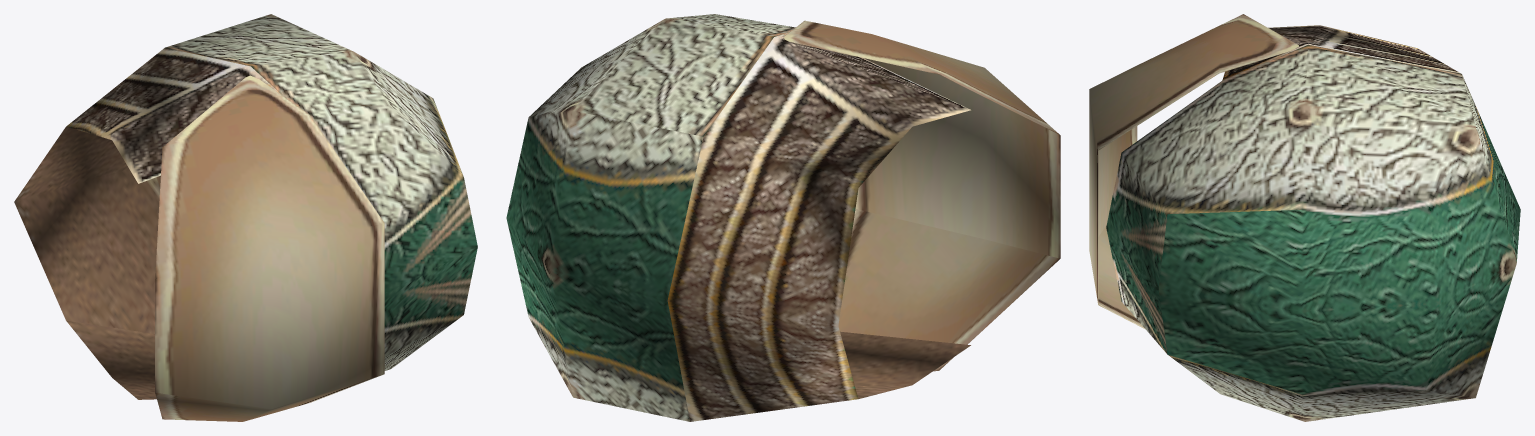
Rendered from Helmet6.glb.
3 renders of one model, left to right at view 1: azimuth 30°, elevation 25°; view 2: azimuth 150°, elevation 25°; view 3: azimuth 270°, elevation 25°, orthographic. The views are drawn at different scales.
Visible parts, largest first — view 1: Helmet6; view 2: Helmet6; view 3: Helmet6.
Part boxes in pixels (x1,y1,x2,y2): Helmet6: (14,14,477,421); Helmet6: (506,14,1060,421); Helmet6: (1089,14,1520,421).
Bounding box in the file's own units: 13.81 × 11.5 × 13.39.
1 material, 1 textured.
